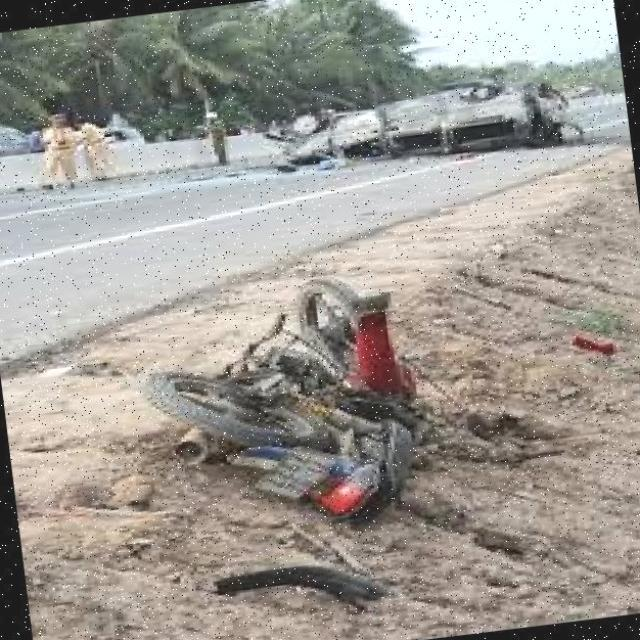accident: (163, 204, 477, 544), (248, 46, 584, 196)
